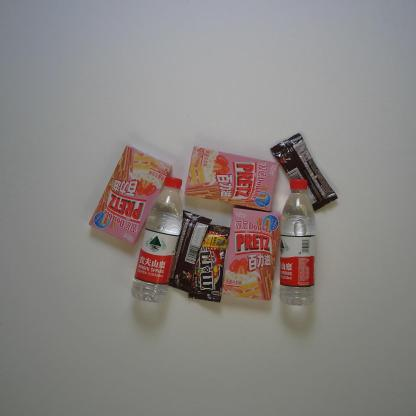Chocolate: (270, 133, 338, 214), (162, 207, 213, 293), (189, 222, 230, 304)
Dessert: (87, 142, 173, 246), (183, 145, 280, 213), (218, 206, 282, 302)
Drink: (129, 174, 185, 304), (276, 173, 319, 312)
